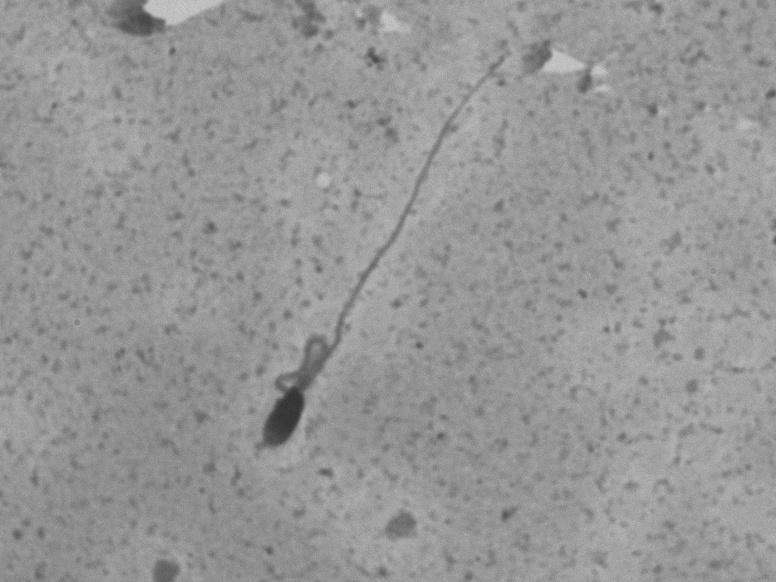Abnormal: (212, 51, 516, 493)
